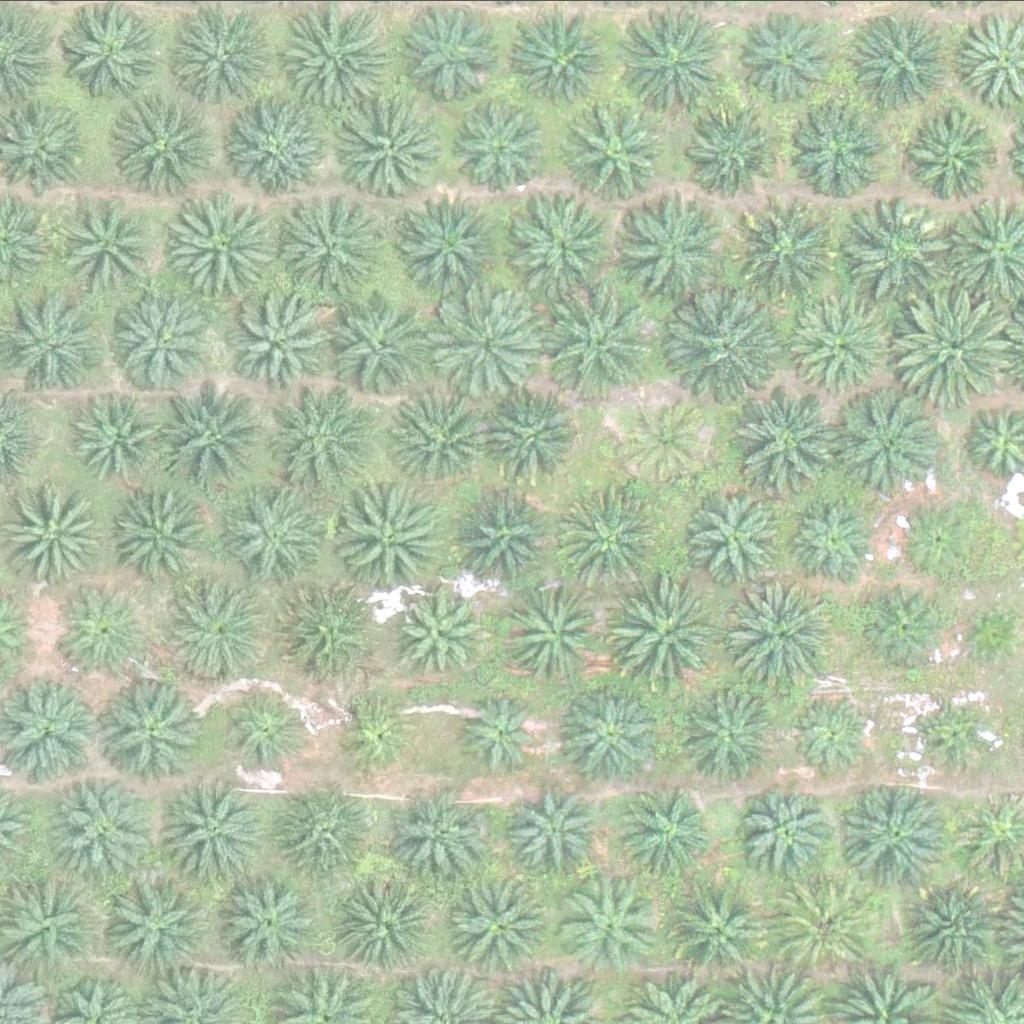Kelapa_Sawit: (545, 289, 659, 402), (331, 488, 444, 601), (169, 189, 282, 302), (838, 196, 951, 309), (671, 289, 784, 402), (724, 579, 837, 692), (612, 578, 725, 691), (891, 292, 1005, 404), (100, 867, 213, 979), (43, 769, 156, 881), (158, 773, 271, 885), (158, 569, 271, 681), (158, 380, 271, 492), (430, 289, 543, 401), (273, 188, 386, 300), (616, 2, 729, 114), (554, 481, 667, 593), (838, 779, 951, 891), (737, 383, 850, 495), (830, 388, 943, 500), (334, 868, 435, 968), (217, 868, 318, 968), (281, 784, 382, 884), (390, 779, 491, 879), (101, 681, 202, 781), (277, 569, 378, 669), (12, 486, 113, 586), (224, 487, 325, 587), (453, 496, 554, 596), (384, 393, 485, 493), (284, 383, 385, 483), (111, 289, 212, 389), (227, 292, 328, 392), (392, 194, 493, 294), (58, 193, 159, 293), (115, 99, 216, 199), (223, 93, 324, 193), (348, 94, 449, 194), (400, 1, 501, 101), (904, 109, 1005, 209), (512, 7, 613, 107), (792, 293, 893, 393), (686, 488, 787, 588), (505, 584, 606, 684), (565, 686, 666, 786), (678, 684, 779, 784), (737, 782, 838, 882), (555, 876, 656, 976), (665, 879, 766, 979), (448, 872, 548, 972), (110, 481, 210, 581), (334, 299, 434, 399), (908, 878, 1008, 978), (861, 9, 961, 109), (737, 9, 837, 109), (782, 97, 882, 197), (562, 105, 662, 205), (678, 100, 778, 200), (511, 194, 611, 294), (628, 194, 728, 294), (741, 202, 841, 302), (481, 392, 581, 492), (774, 873, 874, 973), (329, 687, 417, 775), (216, 687, 304, 775), (397, 592, 485, 680), (893, 496, 981, 584), (624, 395, 712, 483), (791, 691, 879, 779), (623, 788, 711, 876), (514, 789, 602, 877), (789, 495, 878, 582), (461, 693, 549, 780), (60, 584, 148, 671), (69, 395, 157, 482), (457, 104, 545, 191), (863, 586, 951, 673), (926, 692, 1001, 767)
